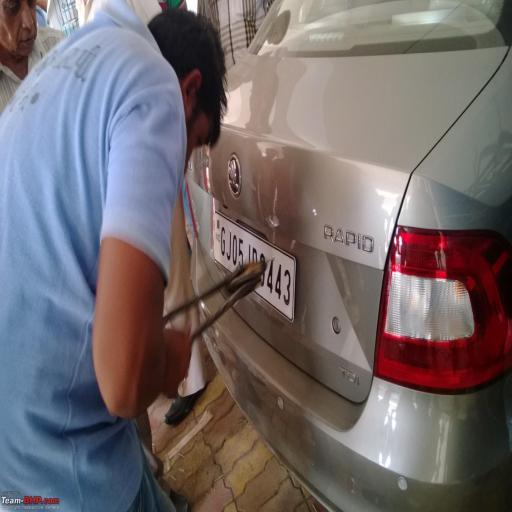License: (214, 210, 293, 324)
